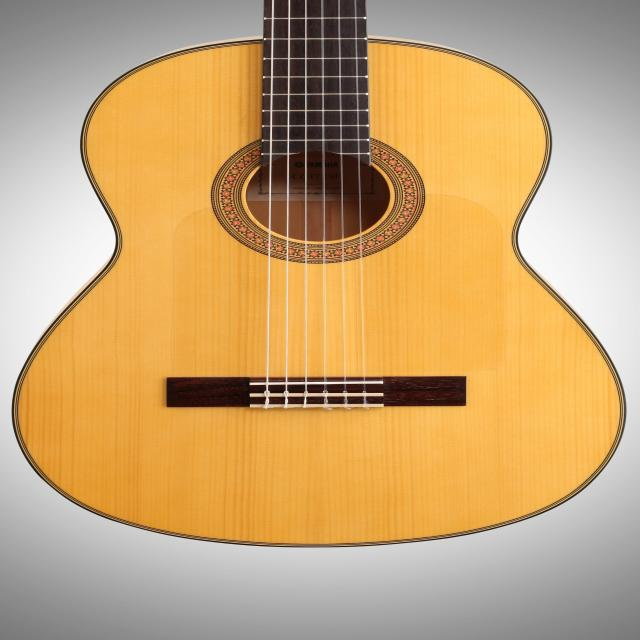guitar: (14, 0, 625, 546)
